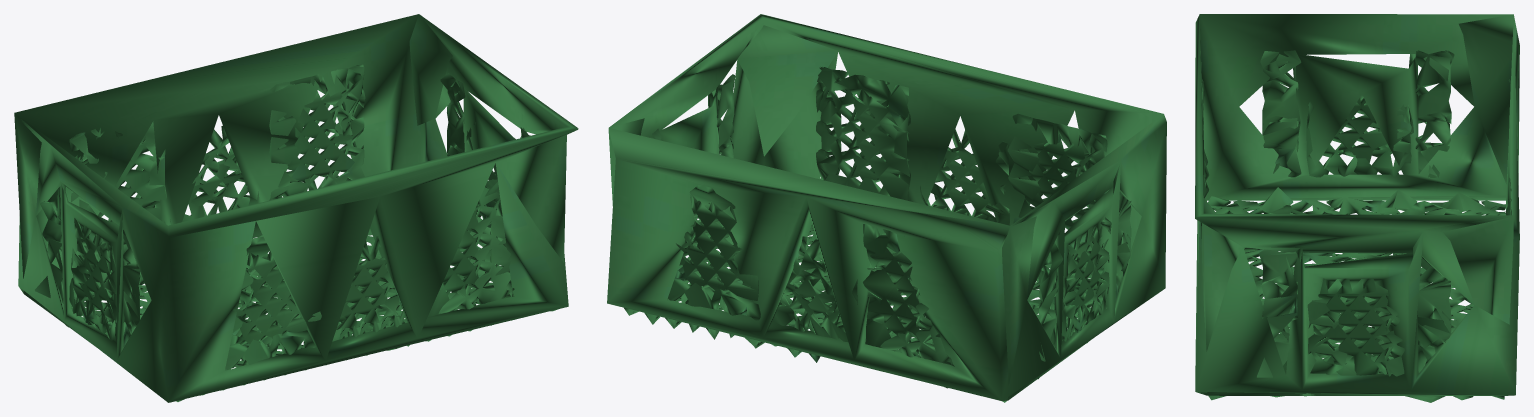
The model's file is crate_green.glb.
3 views of the same model, side by side, from view 1: azimuth 30°, elevation 25°; view 2: azimuth 150°, elevation 25°; view 3: azimuth 270°, elevation 25° (orthographic). The views are drawn at different scales.
Parts seen in each view (by area): view 1: sm_crate_a01_mesh_00 (×2); view 2: sm_crate_a01_mesh_00 (×2); view 3: sm_crate_a01_mesh_00 (×2).
Part boxes in pixels (left/top/right/bottom): sm_crate_a01_mesh_00 (×2): left=14, top=14, right=578, bottom=402; sm_crate_a01_mesh_00 (×2): left=607, top=14, right=1166, bottom=402; sm_crate_a01_mesh_00 (×2): left=1195, top=14, right=1519, bottom=402.
Bounding box in the file's own units: 0.6111 × 0.2681 × 0.4023.
1 material, 1 textured.
